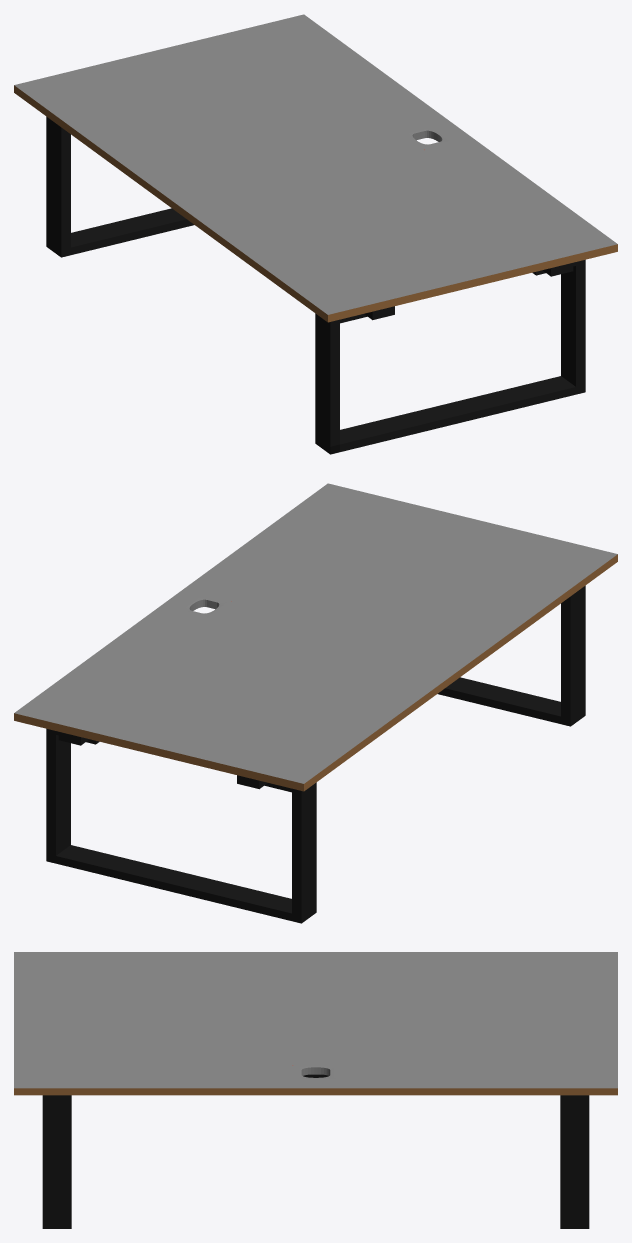
File: MesaTerminadaa.fbx
3 views of the same model, one above another, from view 1: azimuth 30°, elevation 25°; view 2: azimuth 150°, elevation 25°; view 3: azimuth 270°, elevation 25° (orthographic). The views are drawn at different scales.
Parts seen in each view (by area): view 1: gris, negro metal, madera; view 2: gris, negro metal, madera; view 3: gris, negro metal, madera.
Boxes of the visible parts, x1,y1,x2,y2 form: gris: (14,14,617,314); negro metal: (46,116,585,453); madera: (14,85,617,322); gris: (14,483,617,783); negro metal: (46,585,585,923); madera: (14,554,617,791); gris: (14,952,617,1088); negro metal: (42,1074,589,1228); madera: (14,1088,617,1095).
Size of the model in its own units: 80 by 40.81 by 150.
